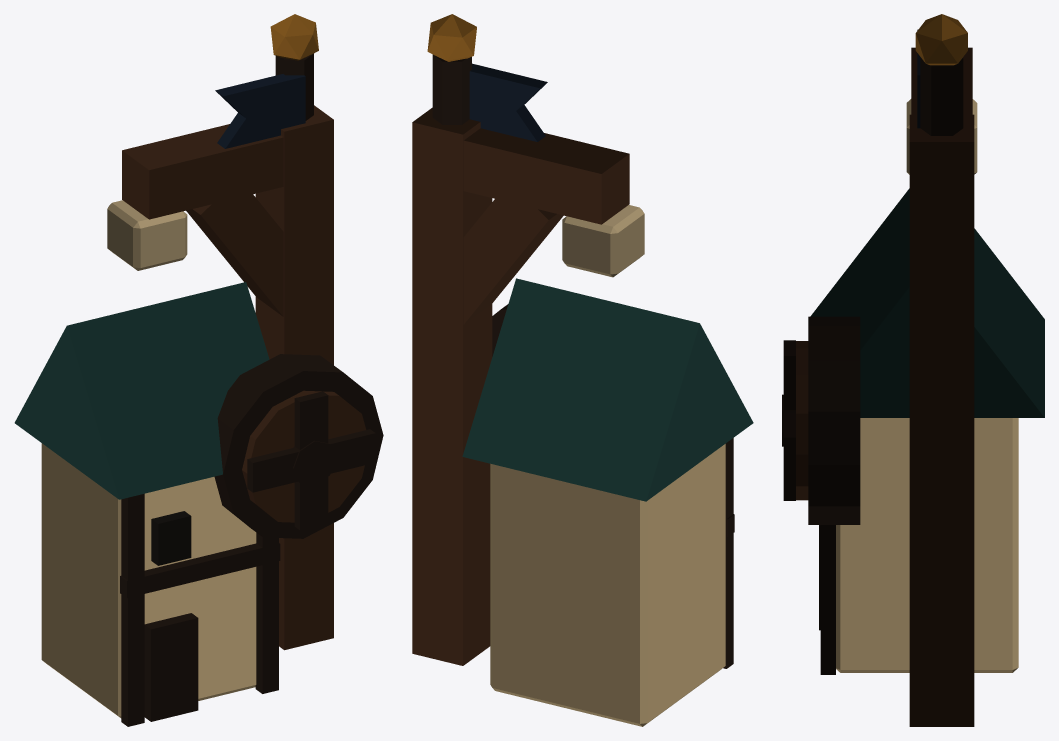
File: workshop.obj
3 renders of one model, left to right at view 1: azimuth 30°, elevation 25°; view 2: azimuth 150°, elevation 25°; view 3: azimuth 270°, elevation 25°, orthographic. The views are drawn at different scales.
Visible parts, largest first — view 1: core_wood, core_wood_dark, core_roof_hall, core_plaster, core_team, core_stone, core_window, core_gold; view 2: core_wood, core_plaster, core_roof_hall, core_wood_dark, core_stone, core_team, core_gold; view 3: core_wood, core_plaster, core_roof_hall, core_wood_dark, core_gold, core_stone.
Boxes of the visible parts, bbox=[...] form: core_wood: bbox=[122, 105, 366, 650]; core_wood_dark: bbox=[120, 53, 383, 726]; core_roof_hall: bbox=[14, 282, 269, 499]; core_plaster: bbox=[41, 443, 256, 718]; core_team: bbox=[215, 74, 305, 148]; core_stone: bbox=[107, 200, 187, 270]; core_window: bbox=[151, 511, 191, 565]; core_gold: bbox=[270, 14, 318, 60]; core_wood: bbox=[412, 107, 629, 665]; core_plaster: bbox=[490, 444, 725, 726]; core_roof_hall: bbox=[462, 278, 753, 501]; core_wood_dark: bbox=[432, 54, 734, 668]; core_stone: bbox=[562, 205, 644, 277]; core_team: bbox=[469, 63, 547, 141]; core_gold: bbox=[427, 14, 476, 61]; core_wood: bbox=[796, 47, 974, 726]; core_plaster: bbox=[836, 418, 1018, 672]; core_roof_hall: bbox=[810, 188, 1044, 417]; core_wood_dark: bbox=[782, 58, 963, 674]; core_gold: bbox=[915, 14, 967, 65]; core_stone: bbox=[906, 99, 977, 174].
Bounding box in the file's own units: 0.224 × 0.502 × 0.171.
